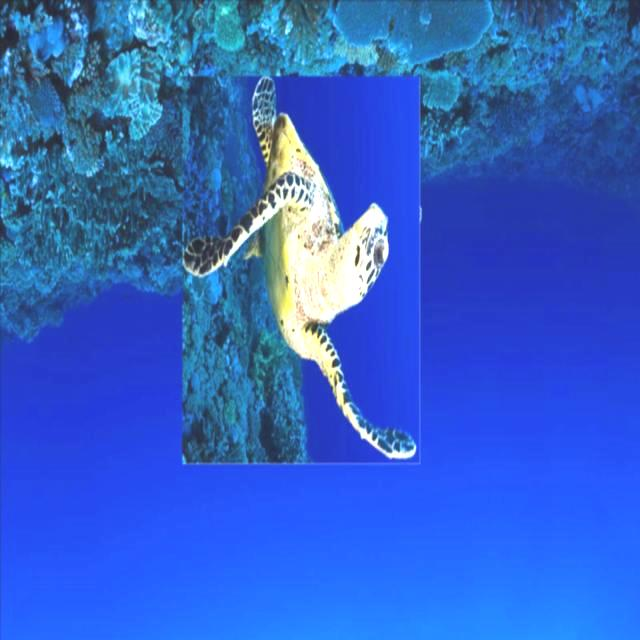Sea turtle: (180, 76, 421, 462)
